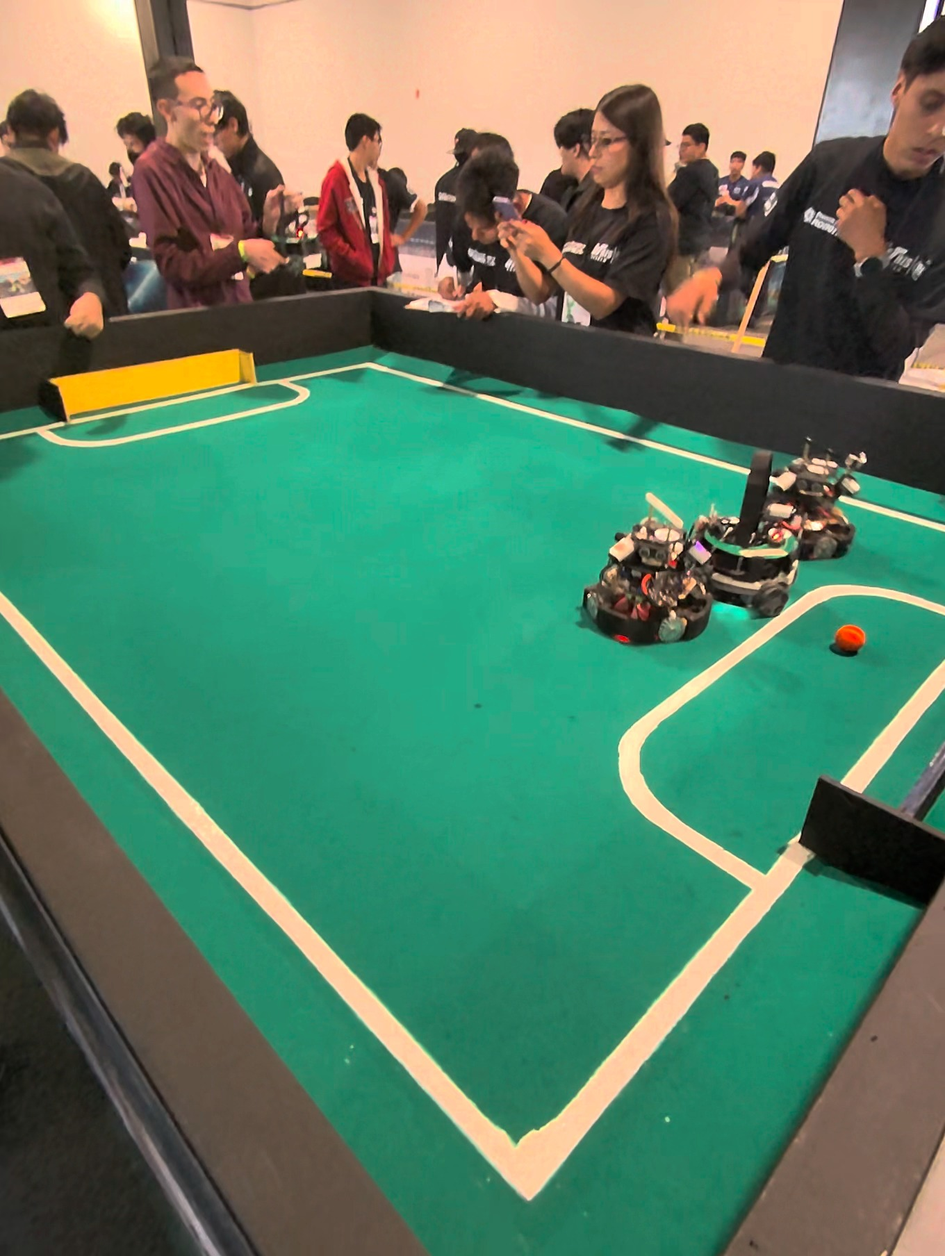Robot: (594, 507, 709, 644), (706, 447, 793, 615), (775, 421, 858, 553)
pelota: (837, 620, 862, 655)
